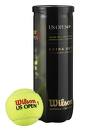tennis ball: (2, 87, 48, 128)
